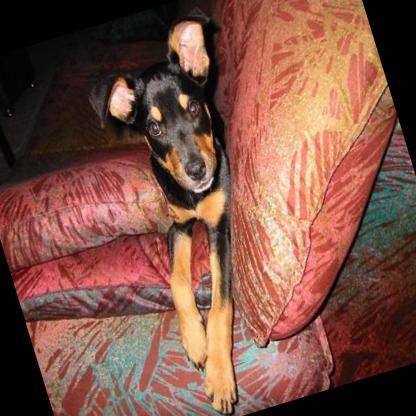kelpie: (86, 14, 312, 416)
